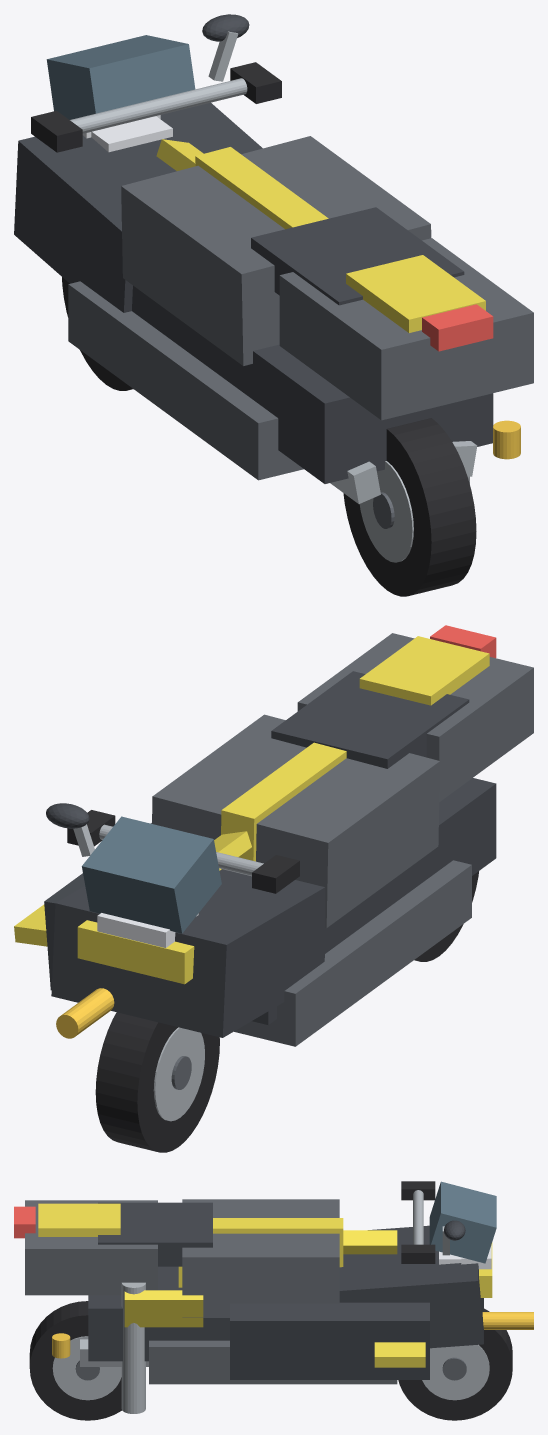
The model's file is flash_bike.glb.
The picture shows the model from 3 angles, top to bottom: view 1: azimuth 30°, elevation 25°; view 2: azimuth 150°, elevation 25°; view 3: azimuth 270°, elevation 25°; orthographic projection. The views are drawn at different scales.
Visible parts, largest first — view 1: Fuel Tank, Rear Tail, Front Nose, Main Chassis, Lower Belly Fairing, Rear Tire, Seat, Windscreen, Tail Yellow Accent, Tank Yellow Stripe, Handlebar, Rear Rim (+10 smaller); view 2: Fuel Tank, Front Nose, Lower Belly Fairing, Windscreen, Rear Tail, Front Tire, Seat, Main Chassis, Tail Yellow Accent, Tank Yellow Stripe, Front Yellow V, Front Rim (+11 smaller); view 3: Side Fairing, Fuel Tank, Front Nose, Rear Tail, Seat, Rear Tire, Lower Belly Fairing, Main Chassis, Windscreen, Front Tire, Rear Aero Fin, Tail Yellow Accent (+17 smaller).
Boxes of the visible parts, <box> form: Fuel Tank: <box>121,136,431,365</box>; Rear Tail: <box>279,238,533,420</box>; Front Nose: <box>14,102,262,312</box>; Main Chassis: <box>132,285,493,483</box>; Lower Belly Fairing: <box>68,281,303,480</box>; Rear Tire: <box>343,418,476,596</box>; Seat: <box>251,207,464,305</box>; Windscreen: <box>46,35,195,119</box>; Tail Yellow Accent: <box>346,255,485,332</box>; Tank Yellow Stripe: <box>195,147,328,229</box>; Handlebar: <box>70,78,247,133</box>; Rear Rim: <box>359,461,413,562</box>; Fuel Tank: <box>152,714,439,928</box>; Front Nose: <box>51,869,325,1037</box>; Lower Belly Fairing: <box>234,860,471,1046</box>; Windscreen: <box>81,816,221,933</box>; Rear Tail: <box>297,633,533,801</box>; Front Tire: <box>95,1012,219,1152</box>; Seat: <box>271,671,469,768</box>; Main Chassis: <box>252,778,496,1024</box>; Tail Yellow Accent: <box>359,636,489,705</box>; Tank Yellow Stripe: <box>221,742,346,861</box>; Front Yellow V: <box>77,920,194,984</box>; Front Rim: <box>153,1027,204,1121</box>; Side Fairing: <box>230,1302,429,1379</box>; Fuel Tank: <box>182,1199,339,1317</box>; Front Nose: <box>339,1225,483,1348</box>; Rear Tail: <box>25,1200,157,1295</box>; Seat: <box>98,1202,212,1266</box>; Rear Tire: <box>29,1301,121,1420</box>; Lower Belly Fairing: <box>149,1340,397,1384</box>; Main Chassis: <box>88,1266,229,1361</box>; Windscreen: <box>429,1181,496,1263</box>; Front Tire: <box>398,1308,512,1420</box>; Rear Aero Fin: <box>124,1290,203,1327</box>; Tail Yellow Accent: <box>38,1203,120,1236</box>.
Size of the model in its own units: 1.8 by 2.02 by 4.29.
